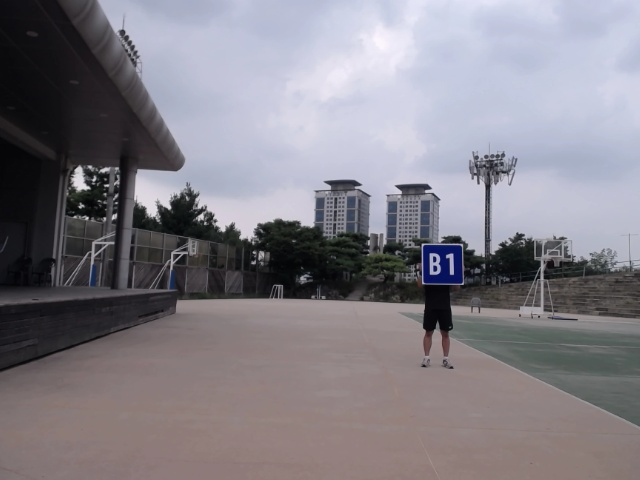delivery_b1: (422, 243, 464, 285)
